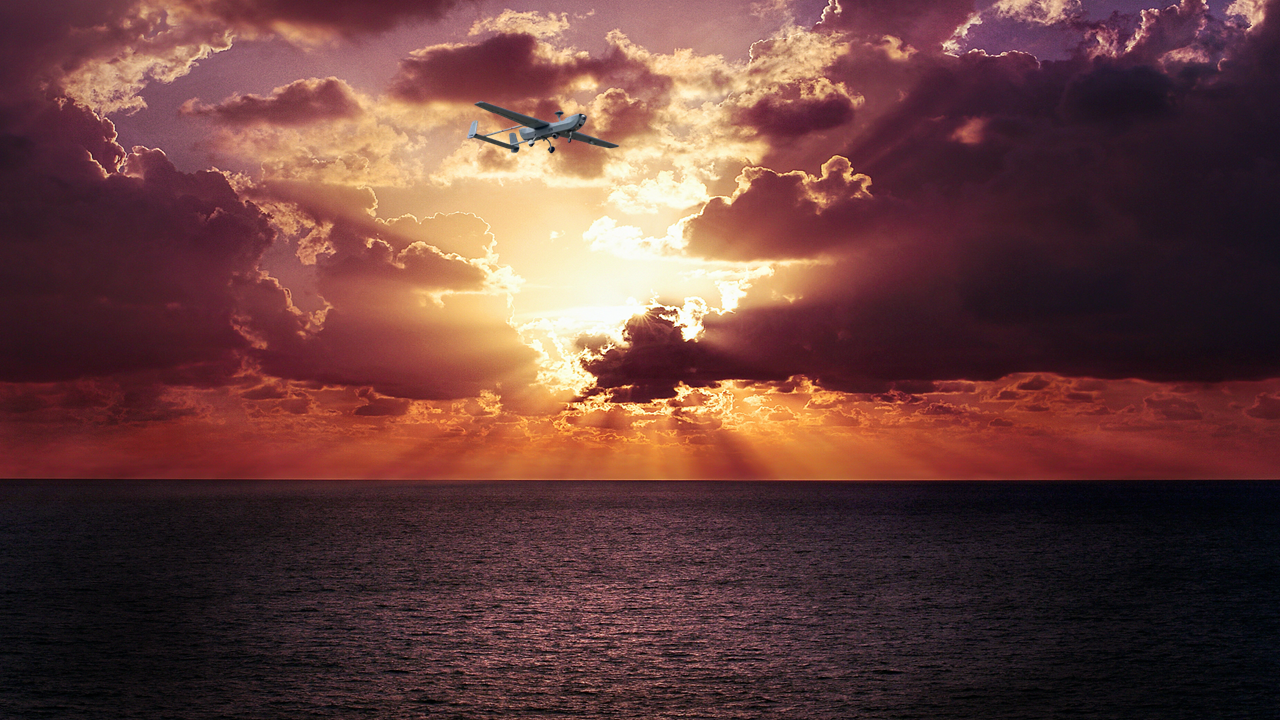military drone: (466, 100, 619, 153)
